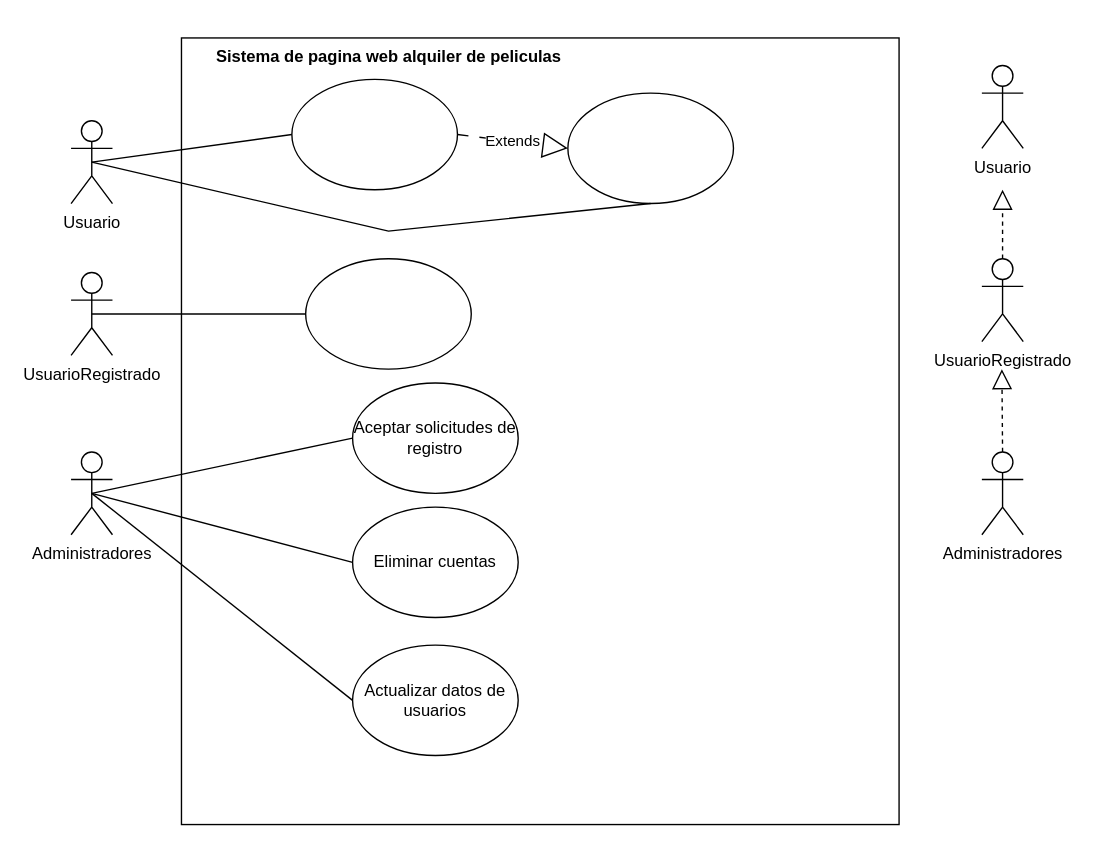
Image size: 1094x849. Some labels were removed from this diagram. The shapes that lost their labels are listed below. From the top down, each one's centre as x and y in pixels, then its label:
(x=373, y=134): Registrarse
(x=649, y=148): Iniciar sesion Si no estas registrado
(x=387, y=313): Actualizar datos
